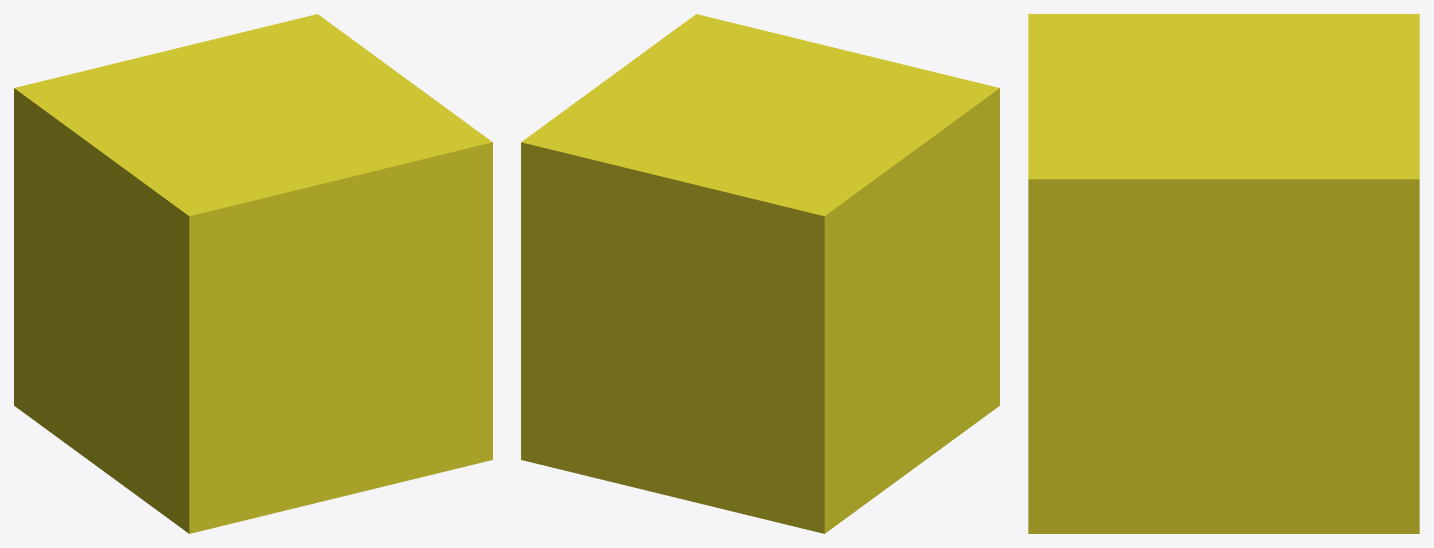
Rendered from CubeToSphere.glb.
The picture shows the model from 3 angles, left to right: view 1: azimuth 30°, elevation 25°; view 2: azimuth 150°, elevation 25°; view 3: azimuth 270°, elevation 25°; orthographic projection. The views are drawn at different scales.
Parts seen in each view (by area): view 1: cubeToSphere; view 2: cubeToSphere; view 3: cubeToSphere.
Part boxes in pixels (left/top/right/bottom): cubeToSphere: left=14, top=14, right=492, bottom=533; cubeToSphere: left=521, top=14, right=999, bottom=533; cubeToSphere: left=1028, top=14, right=1419, bottom=533.
Bounding box in the file's own units: 1 × 1 × 1.
